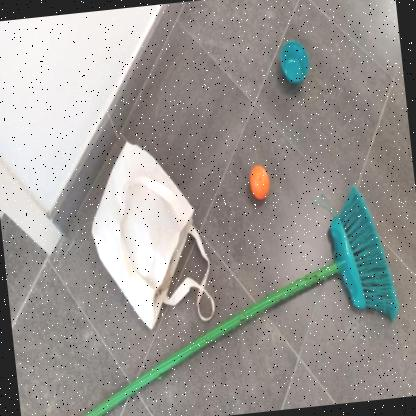bag: (74, 125, 235, 343)
